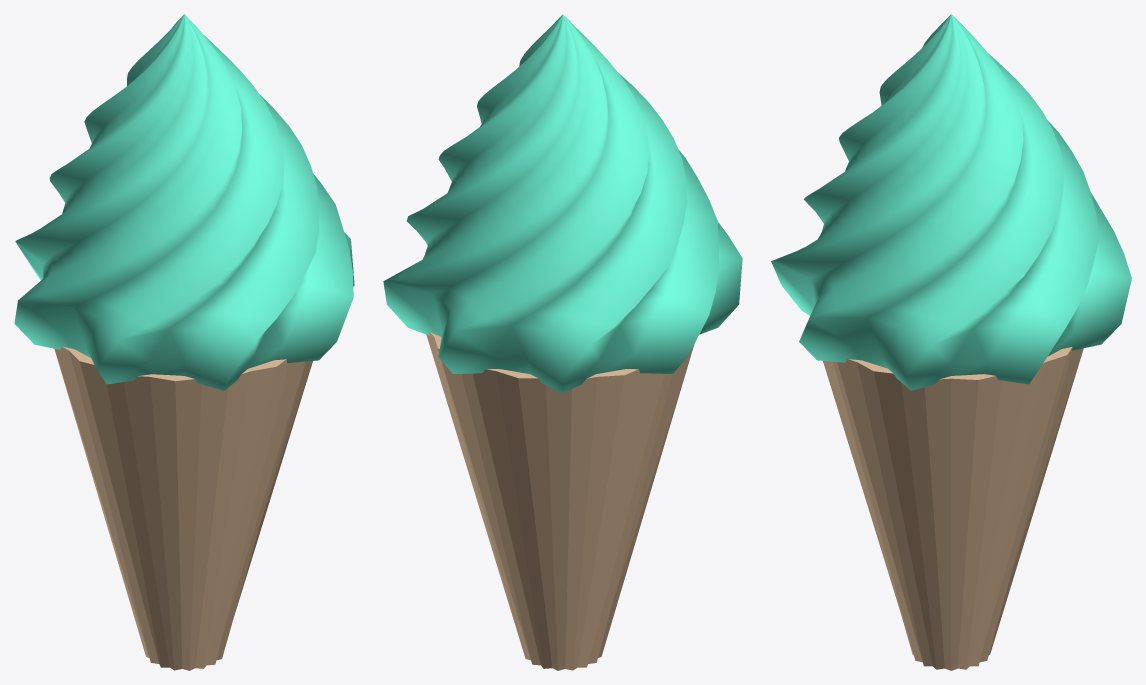
The model's file is icecreamMintJ.fbx.
The picture shows the model from 3 angles, left to right: view 1: azimuth 30°, elevation 25°; view 2: azimuth 150°, elevation 25°; view 3: azimuth 270°, elevation 25°; orthographic projection.
Parts seen in each view (by area): view 1: icecream3, icecreamcorn3; view 2: icecream3, icecreamcorn3; view 3: icecream3, icecreamcorn3.
Boxes of the visible parts, x1,y1,x2,y2 form: icecream3: [14, 14, 354, 390]; icecreamcorn3: [54, 346, 312, 670]; icecream3: [383, 14, 742, 392]; icecreamcorn3: [426, 332, 694, 670]; icecream3: [771, 14, 1131, 390]; icecreamcorn3: [823, 347, 1083, 670].
Size of the model in its own units: 340 by 665 by 340.
